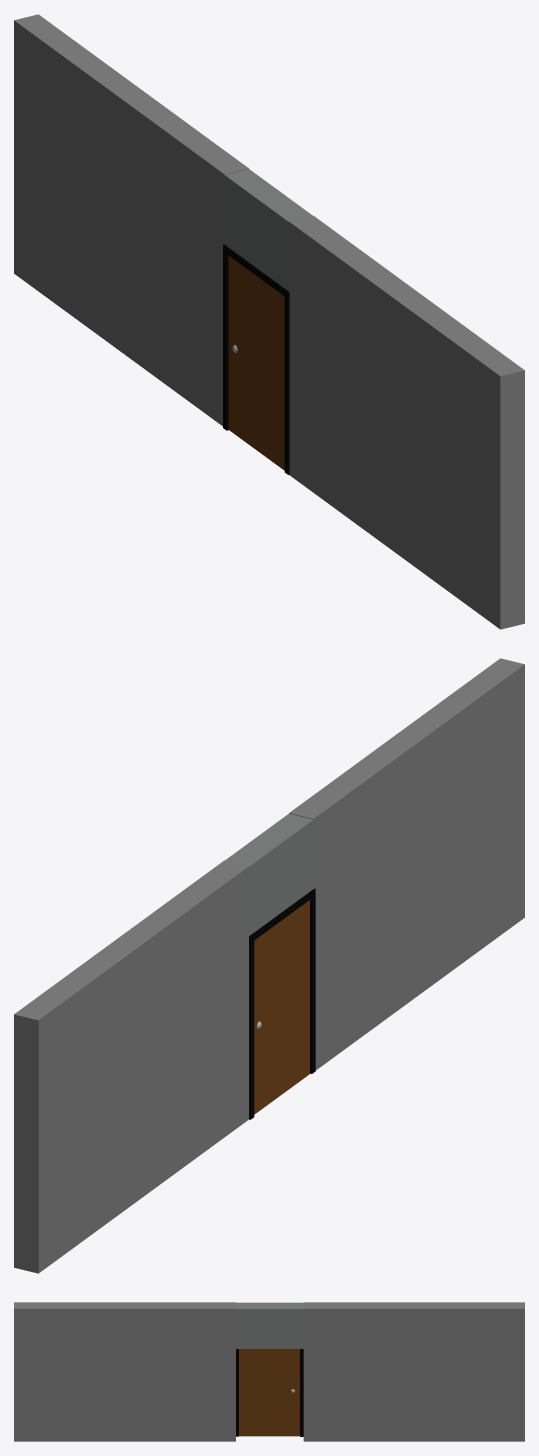
The model's file is door.glb.
The picture shows the model from 3 angles, top to bottom: view 1: azimuth 30°, elevation 25°; view 2: azimuth 150°, elevation 25°; view 3: azimuth 270°, elevation 25°; orthographic projection. The views are drawn at different scales.
Visible parts, largest first — view 1: Cube (4), Cube (3), Tuer (×2), Wandoben, Ramenrechts, Rahmenlinks; view 2: Cube (3), Cube (4), Tuer (×2), Wandoben, Rahmenlinks, Ramenrechts; view 3: Cube (4), Cube (3), Tuer, Wandoben, Rahmenlinks, Ramenrechts.
Boxes of the visible parts, box(x1,y1,x2,y2) form: Cube (4): box(289, 215, 524, 629); Cube (3): box(14, 14, 248, 426); Tuer (×2): box(228, 256, 284, 470); Wandoben: box(224, 169, 312, 291); Ramenrechts: box(284, 289, 288, 474); Rahmenlinks: box(223, 244, 227, 430); Cube (3): box(14, 860, 248, 1273); Cube (4): box(289, 658, 524, 1070); Tuer (×2): box(254, 900, 309, 1114); Wandoben: box(225, 813, 313, 935); Rahmenlinks: box(249, 933, 254, 1119); Ramenrechts: box(310, 888, 315, 1073); Cube (4): box(14, 1302, 235, 1441); Cube (3): box(303, 1302, 524, 1441); Tuer: box(239, 1349, 299, 1436); Wandoben: box(235, 1302, 303, 1348); Rahmenlinks: box(300, 1349, 303, 1436); Ramenrechts: box(236, 1349, 238, 1436).
Bounding box in the file's own units: 0.3133 × 2.88 × 10.04.
